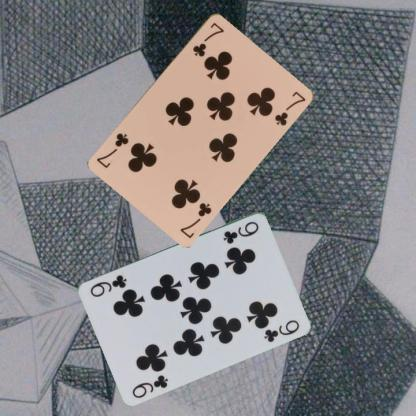7c: (178, 199, 214, 240), (190, 19, 225, 58)
9c: (129, 372, 170, 400), (220, 218, 260, 245)
